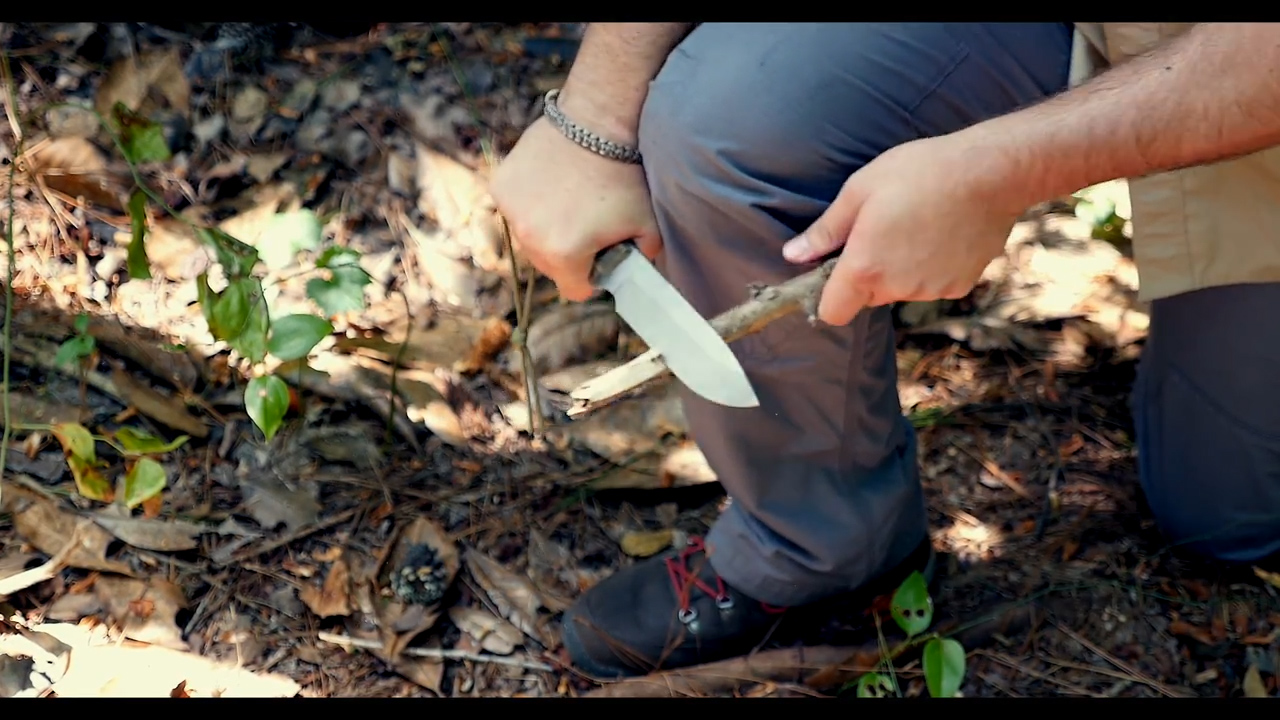knife: (503, 210, 773, 421)
